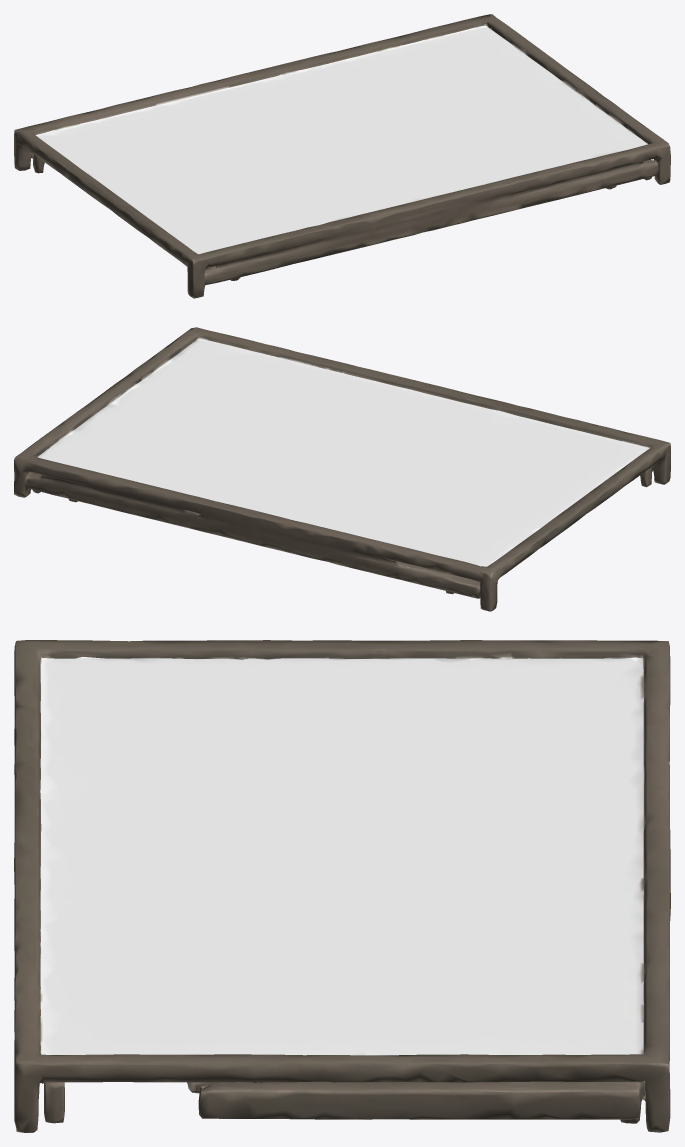
3 renders of one model, top to bottom at view 1: azimuth 30°, elevation 25°; view 2: azimuth 150°, elevation 25°; view 3: azimuth 270°, elevation 25°, orthographic. The views are drawn at different scales.
Parts seen in each view (by area): view 1: world; view 2: world; view 3: world.
Part boxes in pixels (<box>): world: <box>14,14,670,298</box>; world: <box>14,327,670,611</box>; world: <box>14,640,670,1132</box>.
Size of the model in its own units: 1 by 0.0779 by 0.6551.
1 material, 1 textured.
